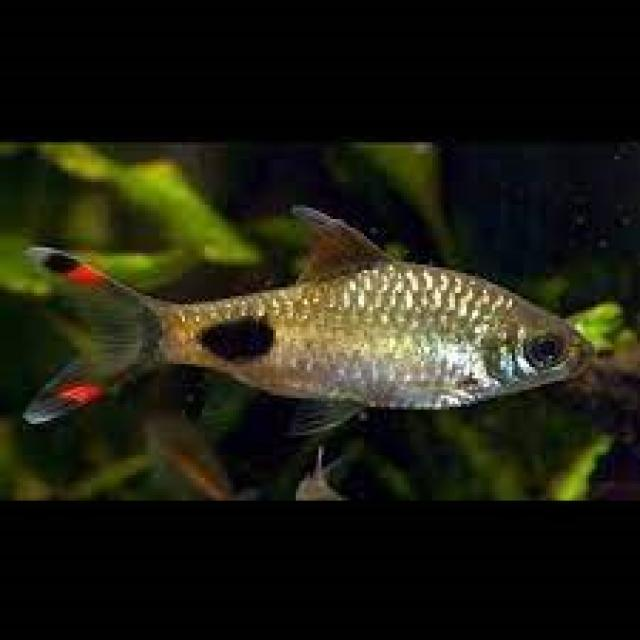Black-Spotted-Barb: (22, 204, 596, 452)
